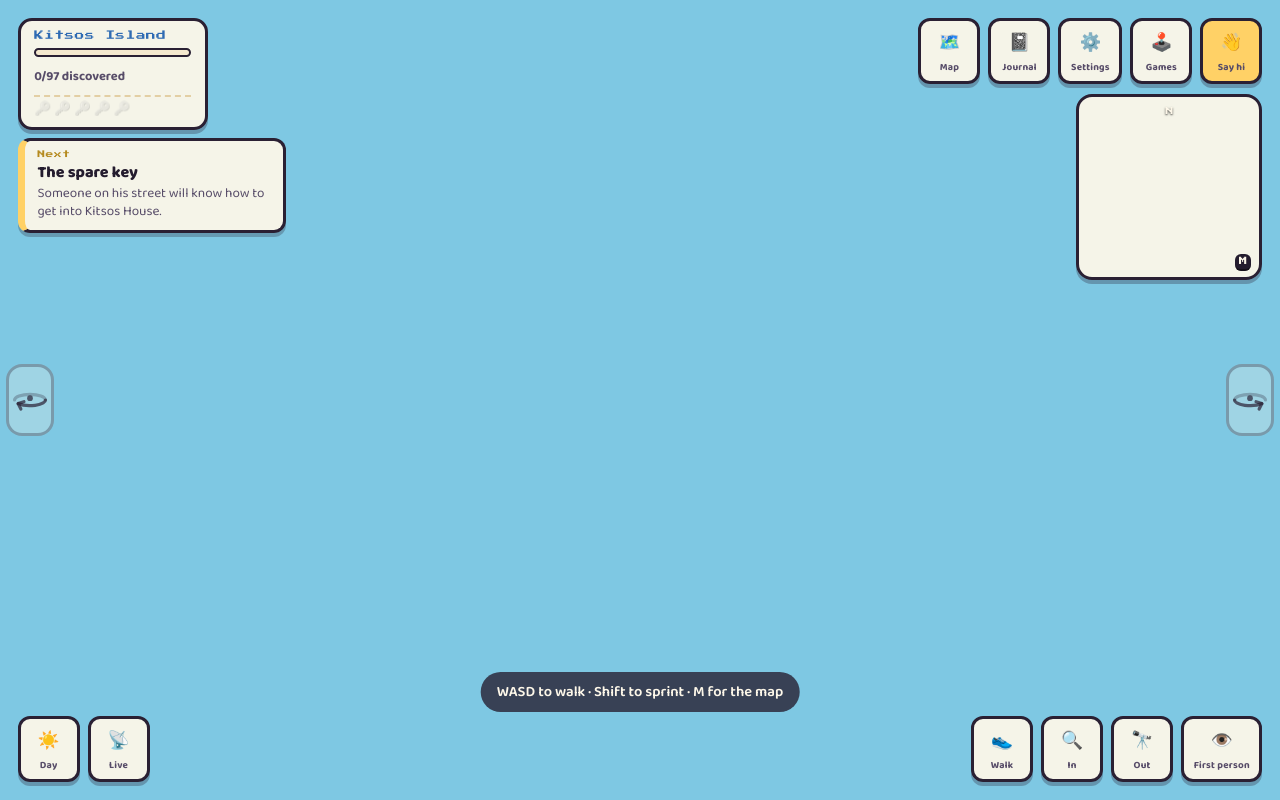
Test case: the live sky on the HUD › opens its card from there, and folds it away when Live goes off
Click the button "📡 Live" at [119, 749], box [88, 716, 150, 782]
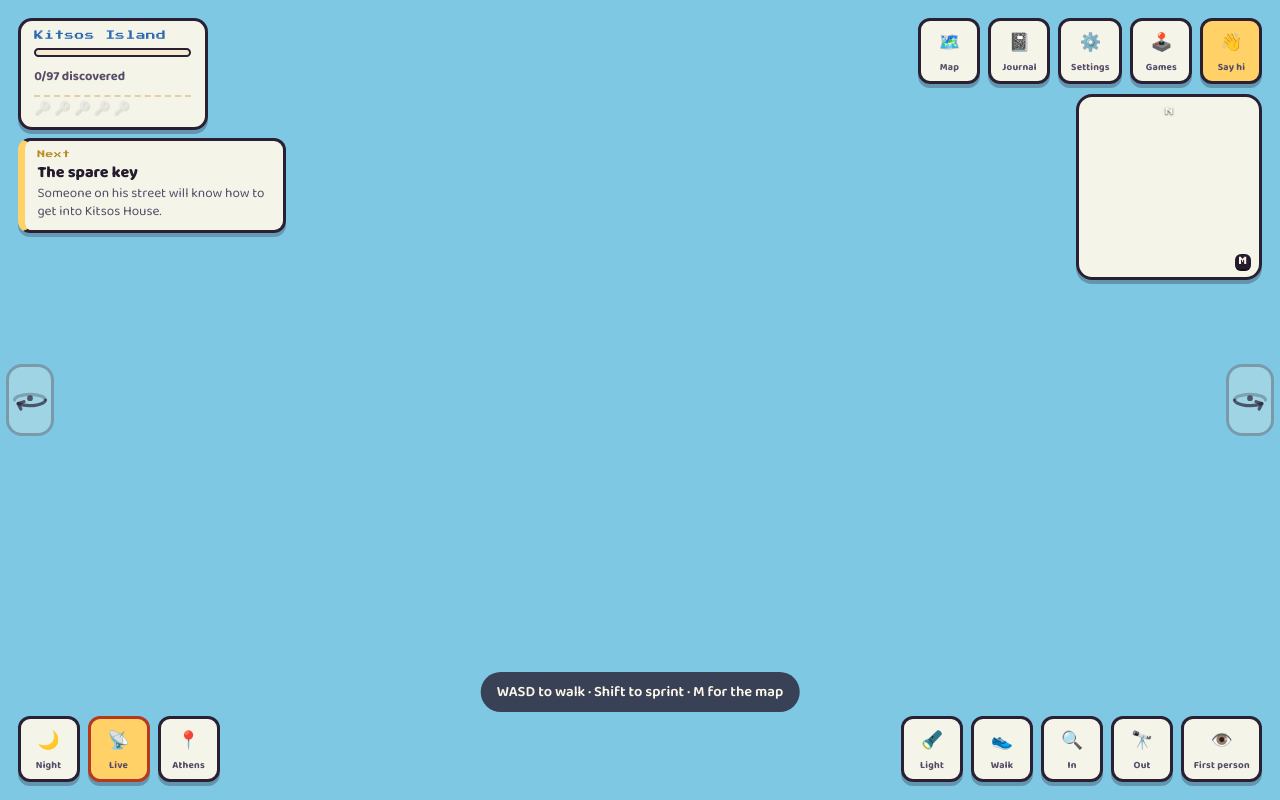
Click the button "📍 Athens" at [189, 749], box [158, 716, 220, 782]
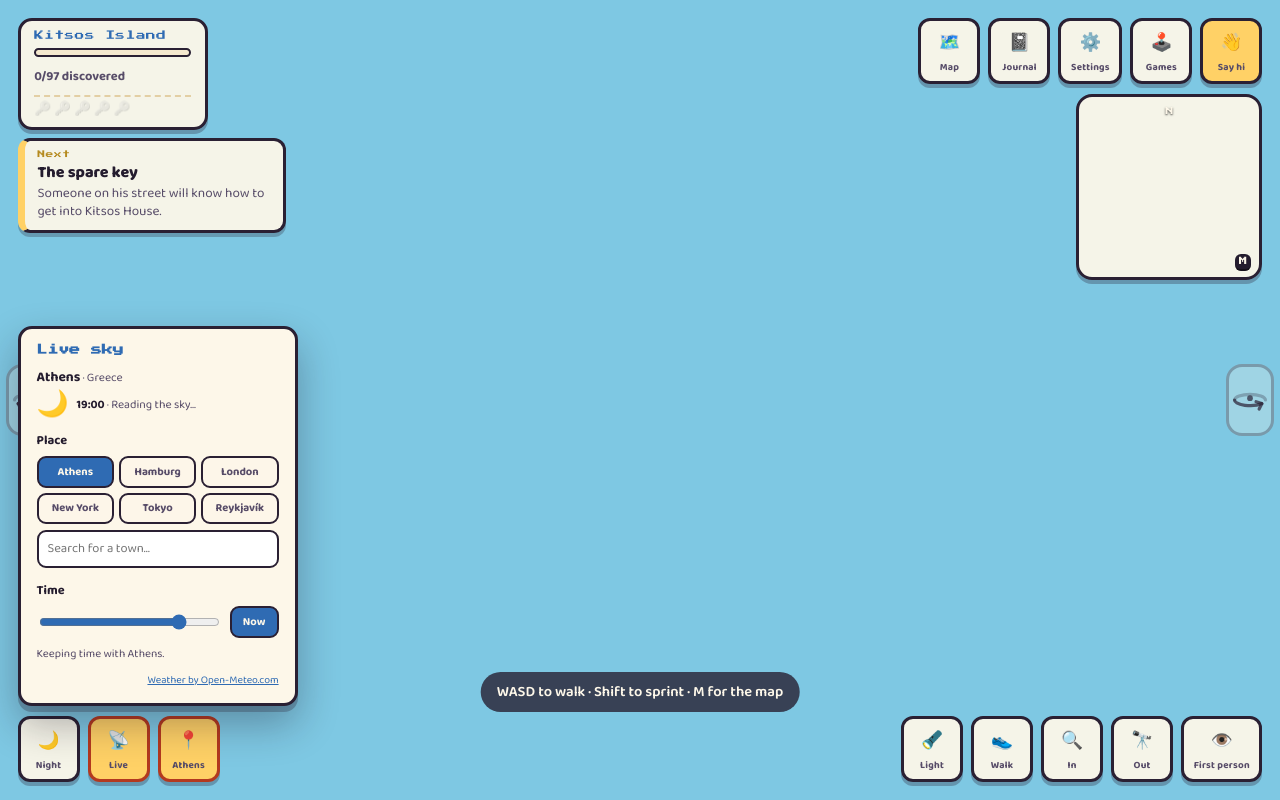
Result: the heading "Live sky" is shown at [37, 344, 124, 355]
Click the button "📡 Live" at [119, 749], box [88, 716, 150, 782]
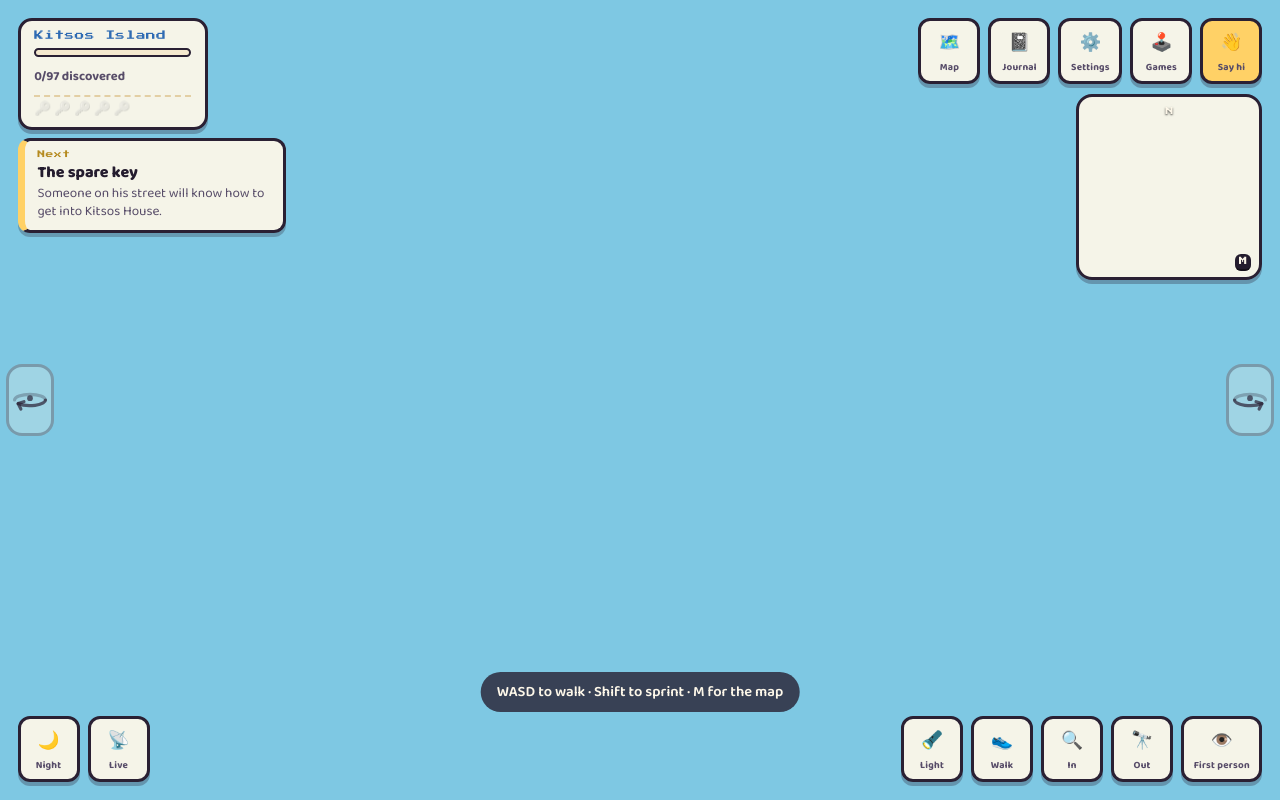
Result: the heading "Live sky" is gone
